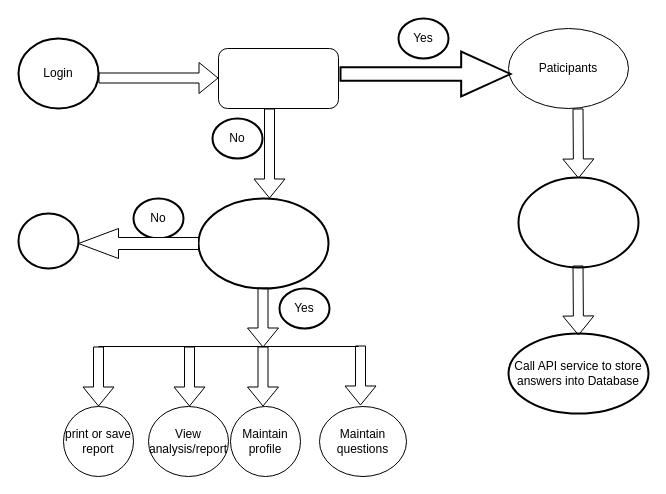
Some shapes in this 666 by 494 pixel diagram are drawn without their labels. The centre of each missing label's shape, as x and y in pixels:
Answer Questionaire: the point at 578,222
End: the point at 48,240
Has token: the point at 278,78
UserName/pwd login as administrator: the point at 263,243
